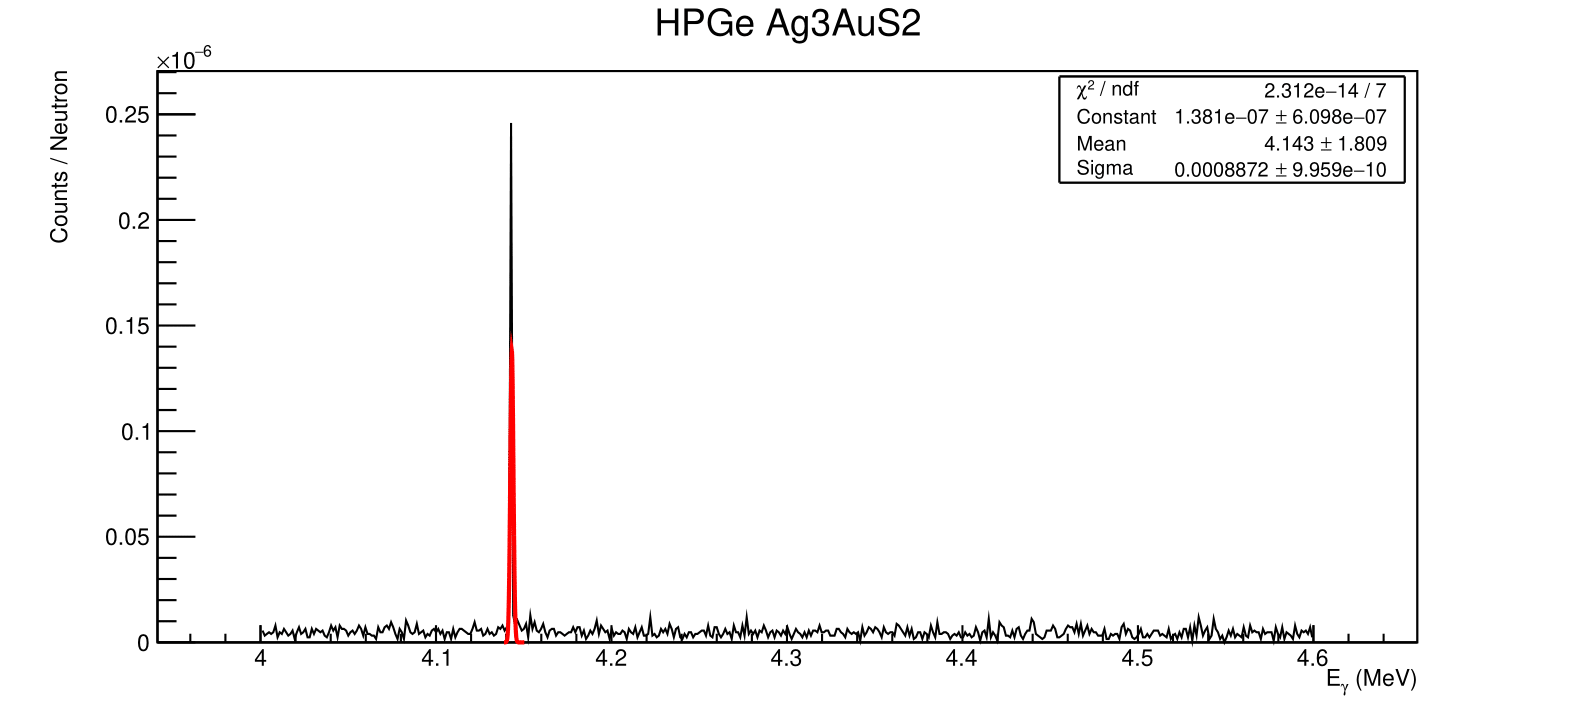gauss: (487, 114, 535, 642)
